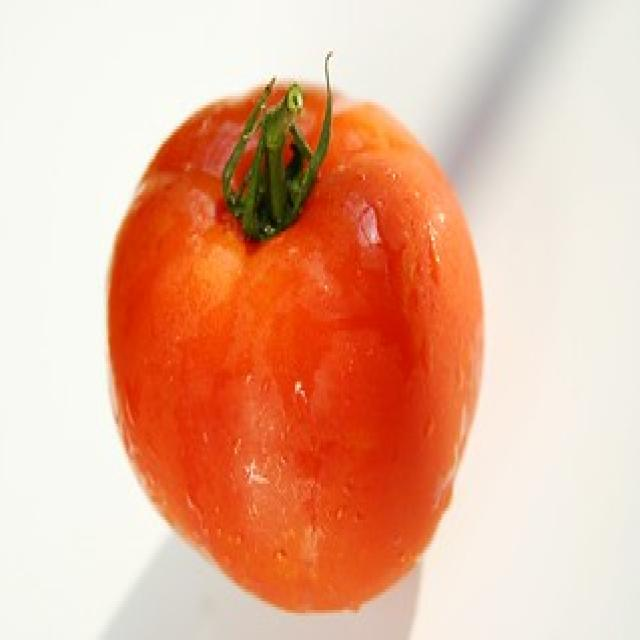Tomato: (99, 75, 488, 618)
